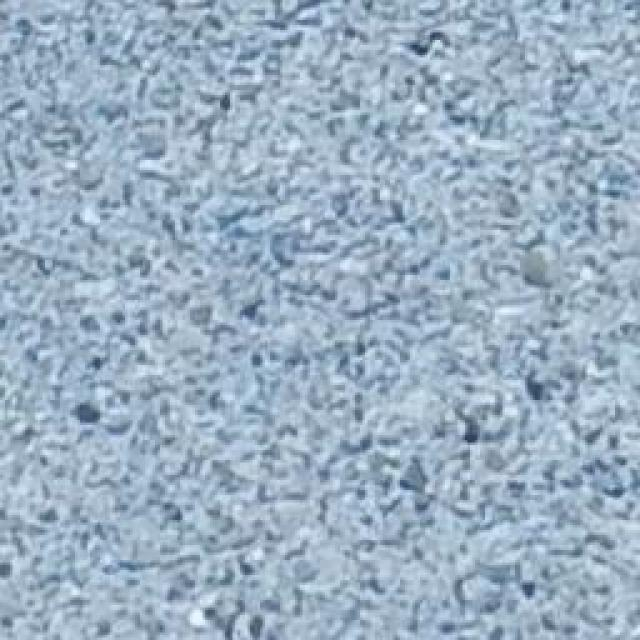concrete-crack: (102, 104, 515, 541)
